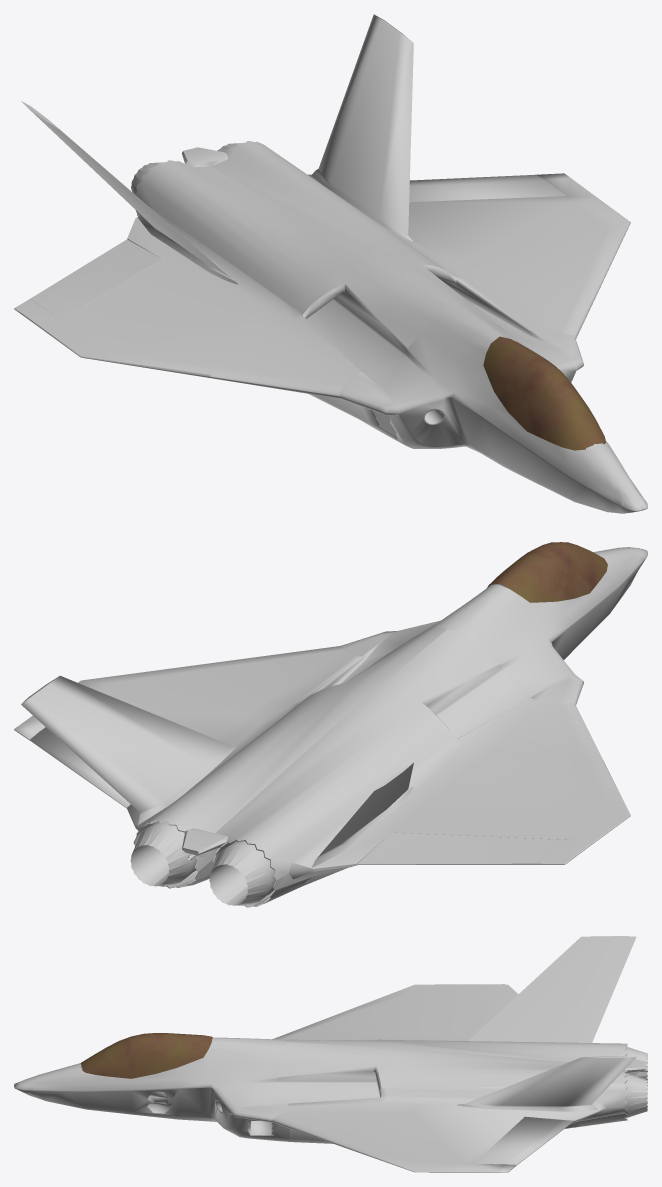
File: FA-38 Wreckage.FBX
3 views of the same model, one above another, from view 1: azimuth 30°, elevation 25°; view 2: azimuth 150°, elevation 25°; view 3: azimuth 270°, elevation 25° (orthographic). The views are drawn at different scales.
Visible parts, largest first — view 1: Mesh_1117, Left Wing, Front; view 2: Mesh_1117, Left Wing, Front, Mesh_0548, Mesh_0547; view 3: Mesh_1117, Left Wing, Front, Mesh_0547, Mesh_0538.
Boxes of the visible parts, left/top/right/bottom form: Mesh_1117: left=14, top=101, right=527, bottom=428; Left Wing: left=308, top=14, right=630, bottom=338; Front: left=340, top=304, right=647, bottom=513; Mesh_1117: left=148, top=627, right=630, bottom=890; Left Wing: left=14, top=646, right=364, bottom=846; Front: left=340, top=542, right=647, bottom=704; Mesh_0548: left=209, top=841, right=275, bottom=905; Mesh_0547: left=130, top=821, right=196, bottom=886; Mesh_1117: left=273, top=936, right=647, bottom=1103; Left Wing: left=271, top=1056, right=636, bottom=1172; Front: left=14, top=1033, right=289, bottom=1141; Mesh_0547: left=624, top=1073, right=647, bottom=1117; Mesh_0538: left=574, top=1113, right=627, bottom=1127.
Bounding box in the file's own units: 41677 × 13043 × 59382.
